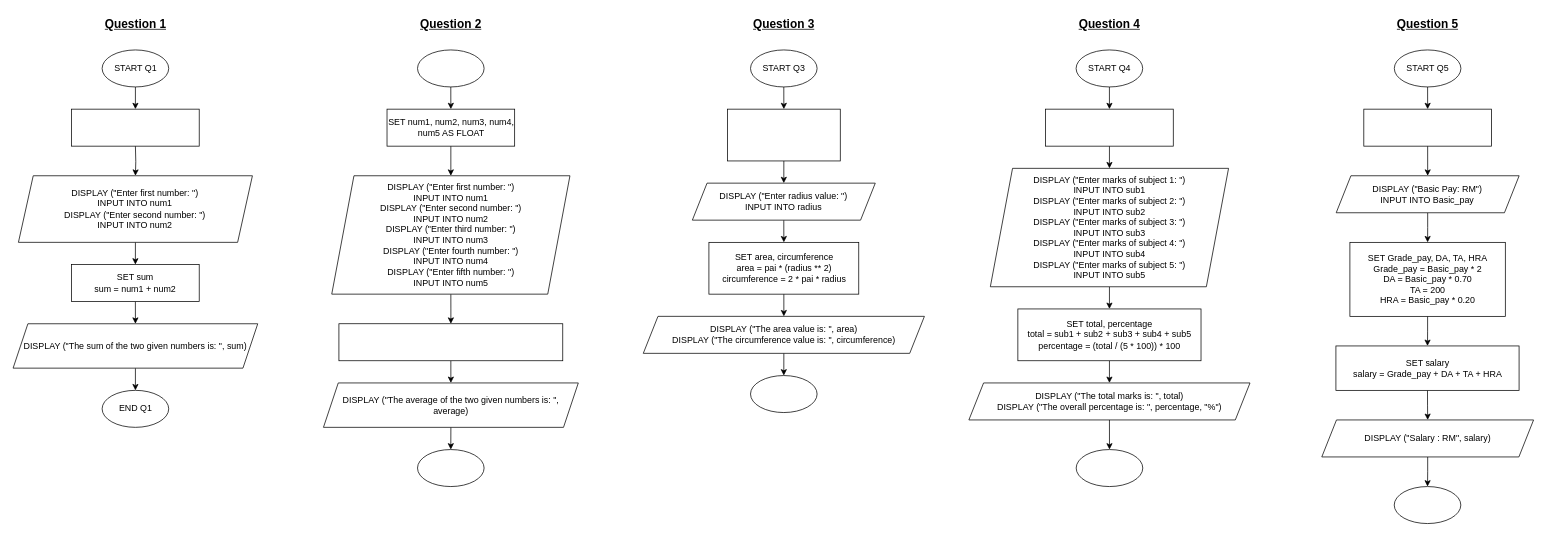
Image size: 1547x537. Some labels were removed from this diagram. Here are the shapes that lost their labels. From the top down, the centre of each, then its label:
At (x=450, y=68): "START Q2".
At (x=135, y=127): "SET num1, num2 AS INT".
At (x=783, y=134): "IMPORT MATH SET radius AS FLOAT SET pai = math.pi".
At (x=1109, y=127): "SET sub1, sub2, sub3, sub4, sub5 AS FLOAT".
At (x=1427, y=127): "SET Basic_pay AS FLOAT".
At (x=450, y=342): "SET average average = (num1 + num2 + num3 + num4 + num5) / 5".
At (x=783, y=394): "END Q3".
At (x=450, y=468): "END Q2".
At (x=1109, y=468): "END Q4".
At (x=1427, y=505): "END Q5".
